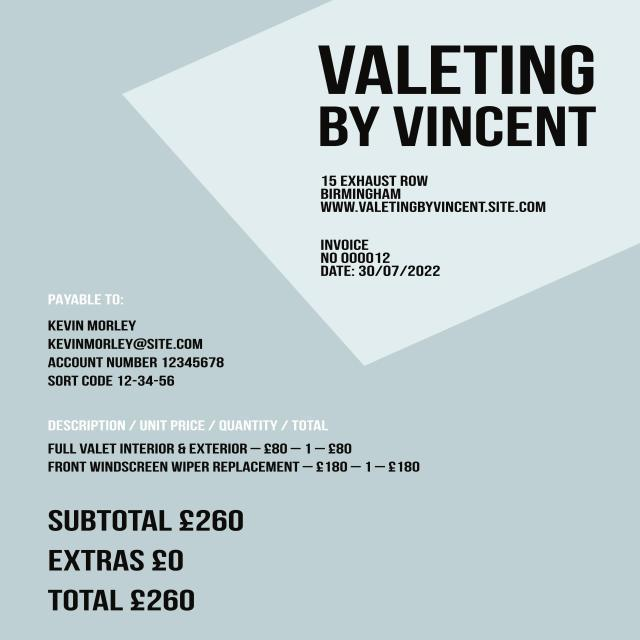paragraph: (315, 38, 602, 152), (42, 414, 426, 480), (43, 503, 248, 620), (43, 290, 230, 391), (318, 168, 549, 216), (316, 236, 444, 281)
